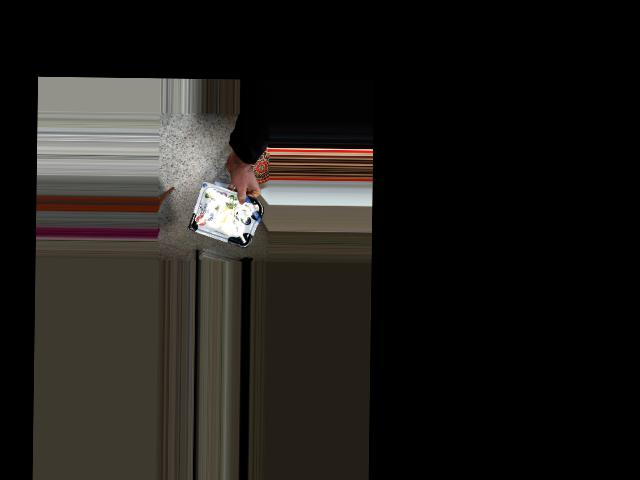cheese: (196, 193, 260, 240)
